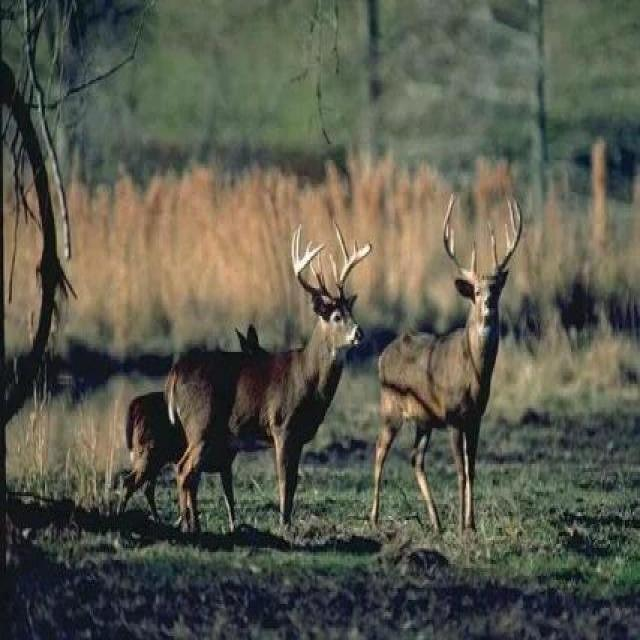deer: (352, 173, 546, 536), (150, 251, 360, 510)
